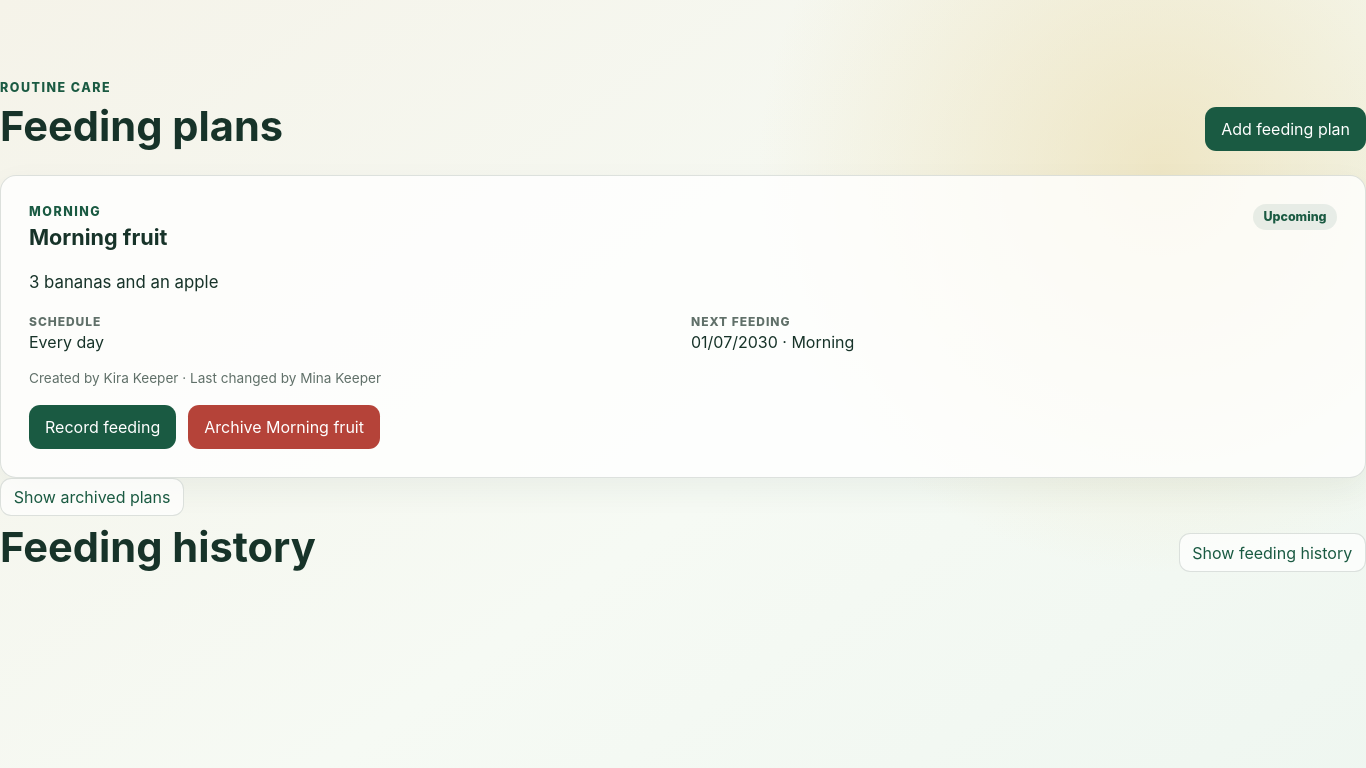
FeedingPlansSection › lets administrators manage feeding plans
Check: the heading "Morning fruit" is shown, box [29,224,167,250]
Check: the button "Archive Morning fruit" is shown, box [188,405,380,449]
Click the button "Add feeding plan".
click(1286, 129)  # box [1205,107,1365,151]
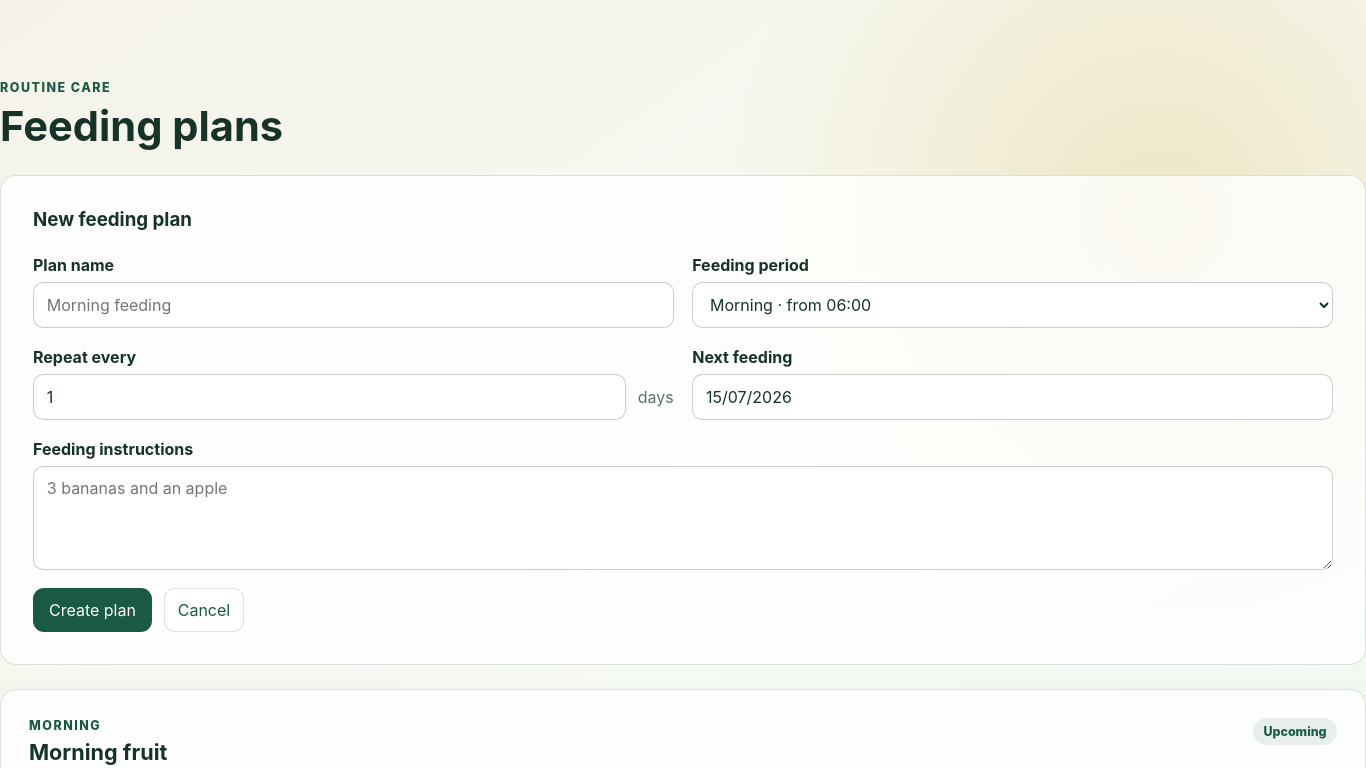
Check: the heading "New feeding plan" is shown, box [33,208,192,231]
